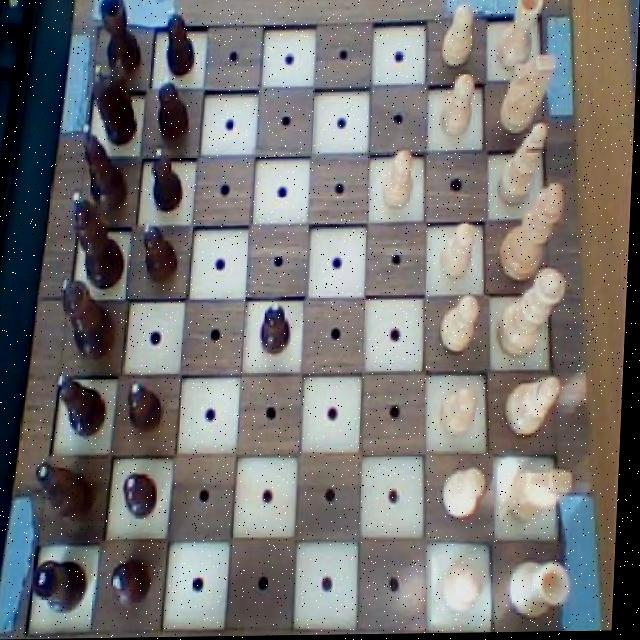bishop: (77, 120, 134, 218), (56, 369, 118, 445)
black-bishop: (63, 188, 132, 298)
black-king: (33, 454, 103, 532), (85, 61, 144, 151)
black-knight: (149, 72, 196, 151), (140, 219, 186, 295), (142, 142, 186, 219), (111, 553, 160, 618), (125, 376, 173, 442), (159, 5, 198, 81), (122, 467, 167, 524), (259, 298, 295, 360)
black-pawn: (55, 274, 123, 368)
black-queen: (91, 0, 149, 84), (35, 554, 96, 619)
black-rook: (491, 121, 555, 213), (505, 372, 568, 441)
white-bishop: (500, 180, 572, 286)
white-king: (494, 52, 561, 141), (511, 459, 582, 529)
white-knight: (439, 291, 488, 359), (436, 0, 481, 74), (437, 68, 479, 143), (441, 559, 493, 619), (443, 462, 494, 523), (381, 147, 422, 216), (440, 382, 486, 442), (437, 220, 480, 284)
white-pawn: (495, 267, 571, 362)
white-queen: (513, 555, 582, 623), (491, 0, 548, 74)
